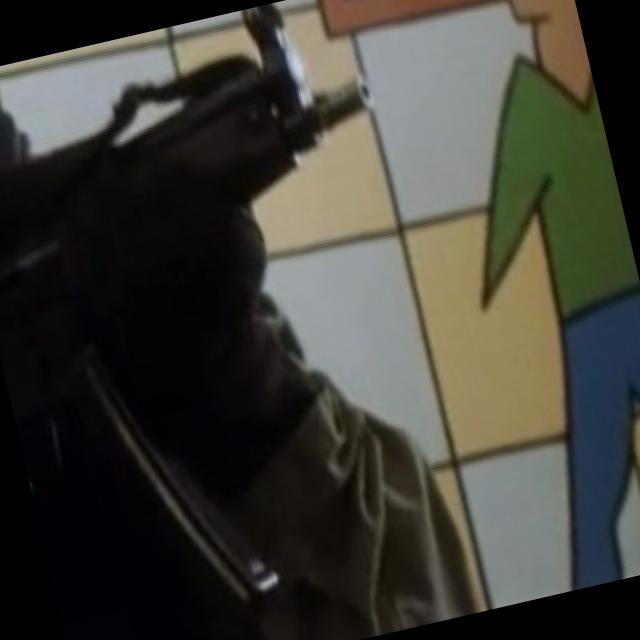Guns: (0, 0, 536, 605)
